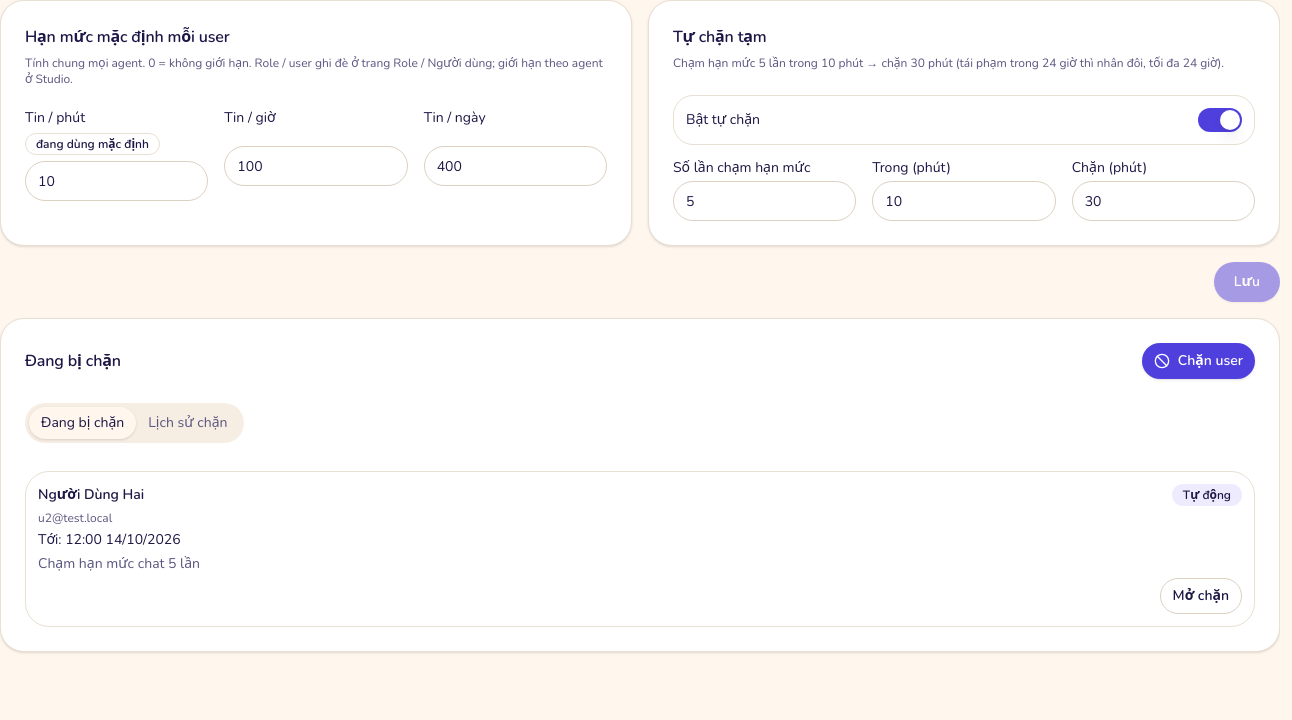
Scenario: ChatGuardPage › câu luật đổi theo ô nhập; tắt tự chặn thì hiện câu 'đang tắt'
Step 1. Replace the text in the field with test id "guard-field-chat_autoblock_strikes" with "2" → (765, 201), box x1=673 y1=181 x2=856 y2=221
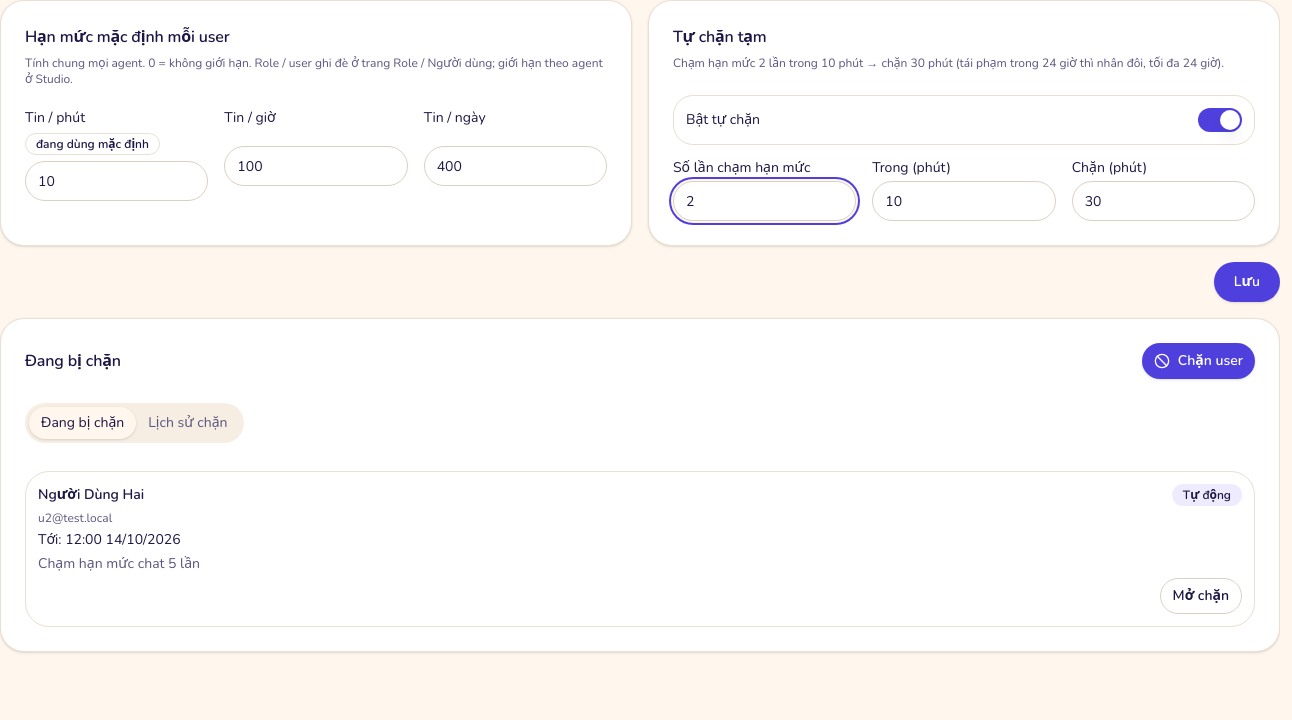
Expected: the text with test id "guard-rule" shows "2 lần", x1=673 y1=55 x2=1224 y2=71
Step 2. Click the switch with test id "guard-autoblock" → (1220, 120), box x1=1198 y1=108 x2=1242 y2=132
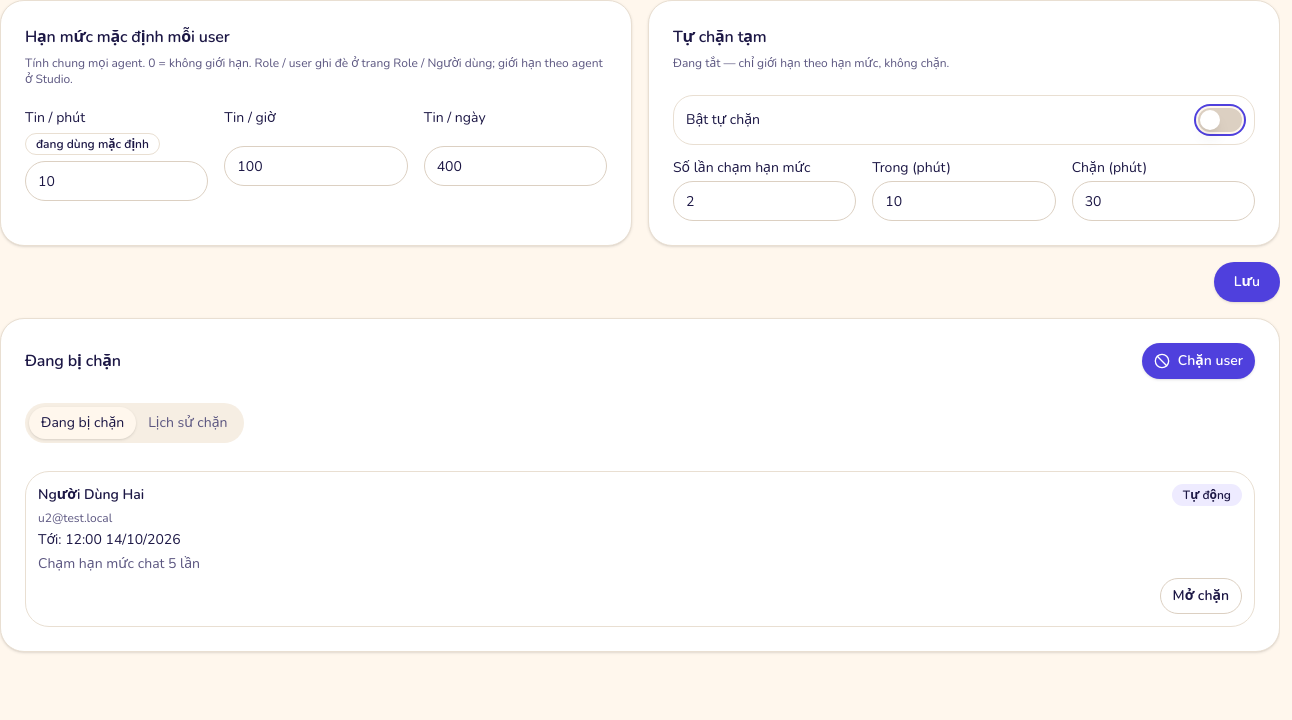
Expected: the text with test id "guard-rule" shows "Đang tắt", x1=673 y1=55 x2=949 y2=71
